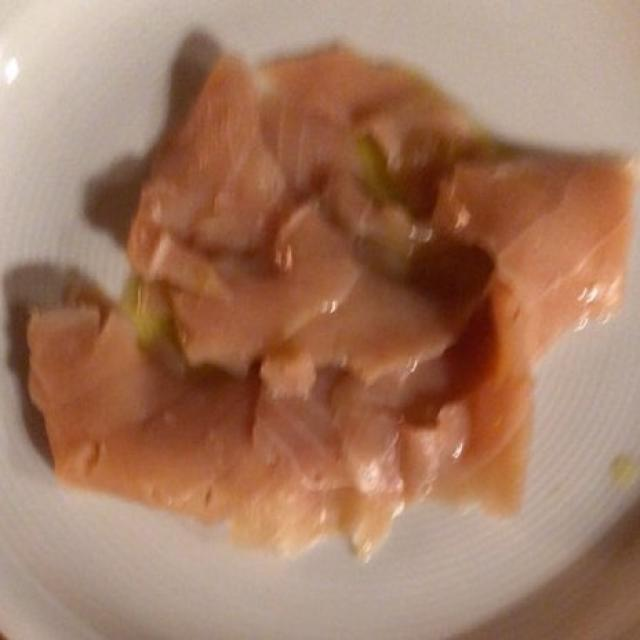salmon: (27, 42, 613, 546)
